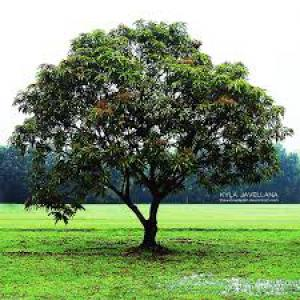Tree: (7, 18, 293, 254)
